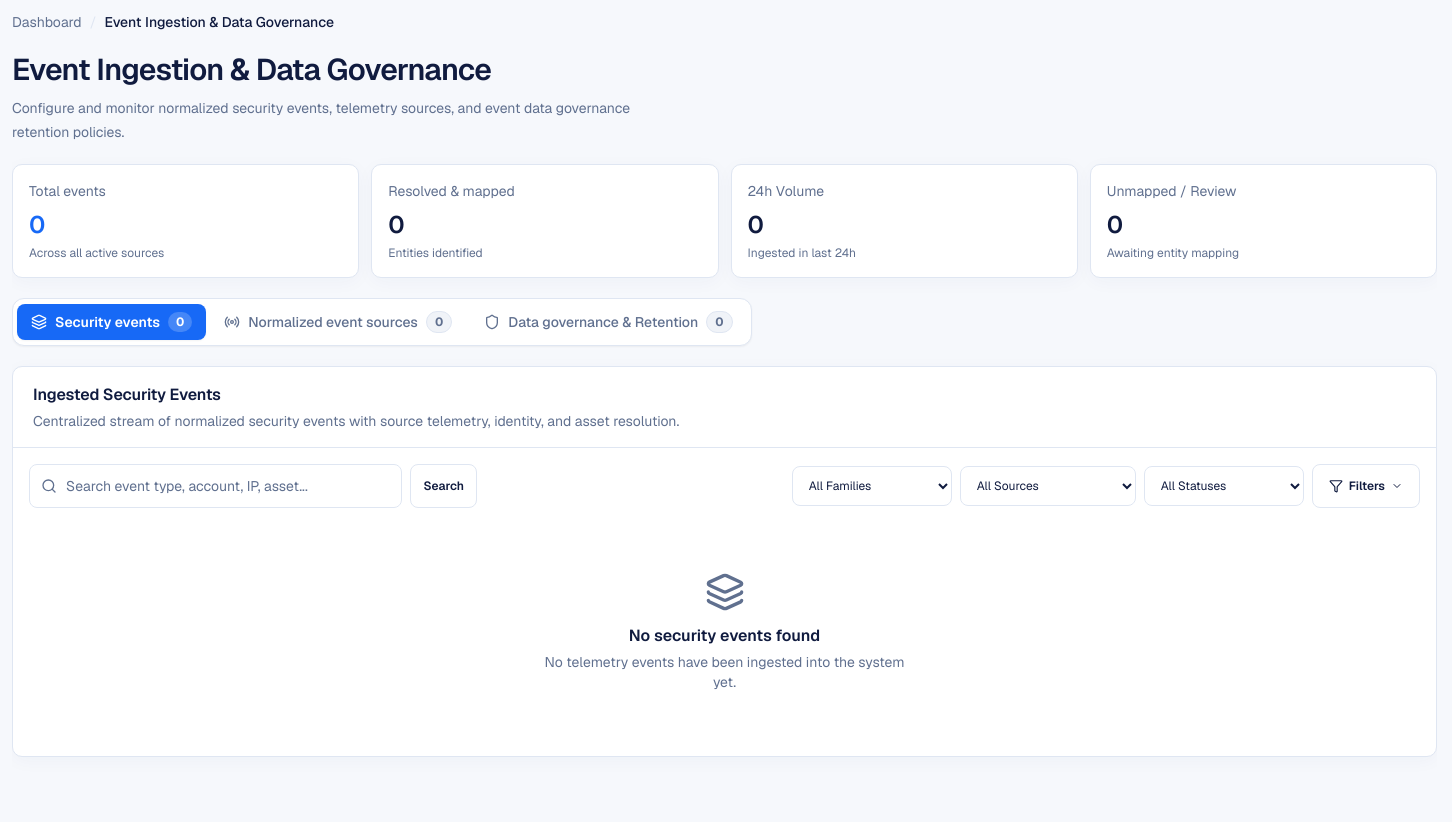
Scenario: LogSourcesManager › renders the 3 active V2 tabs and switches between them
Expected: the button "Security events 0" is shown, [17,304,206,340]
Expected: the button "Data governance & Retention 0" is shown, [470,303,746,341]
// Switch to Normalized event sources
Click the button "Normalized event sources 0" at (338, 322), box [210,303,466,341]
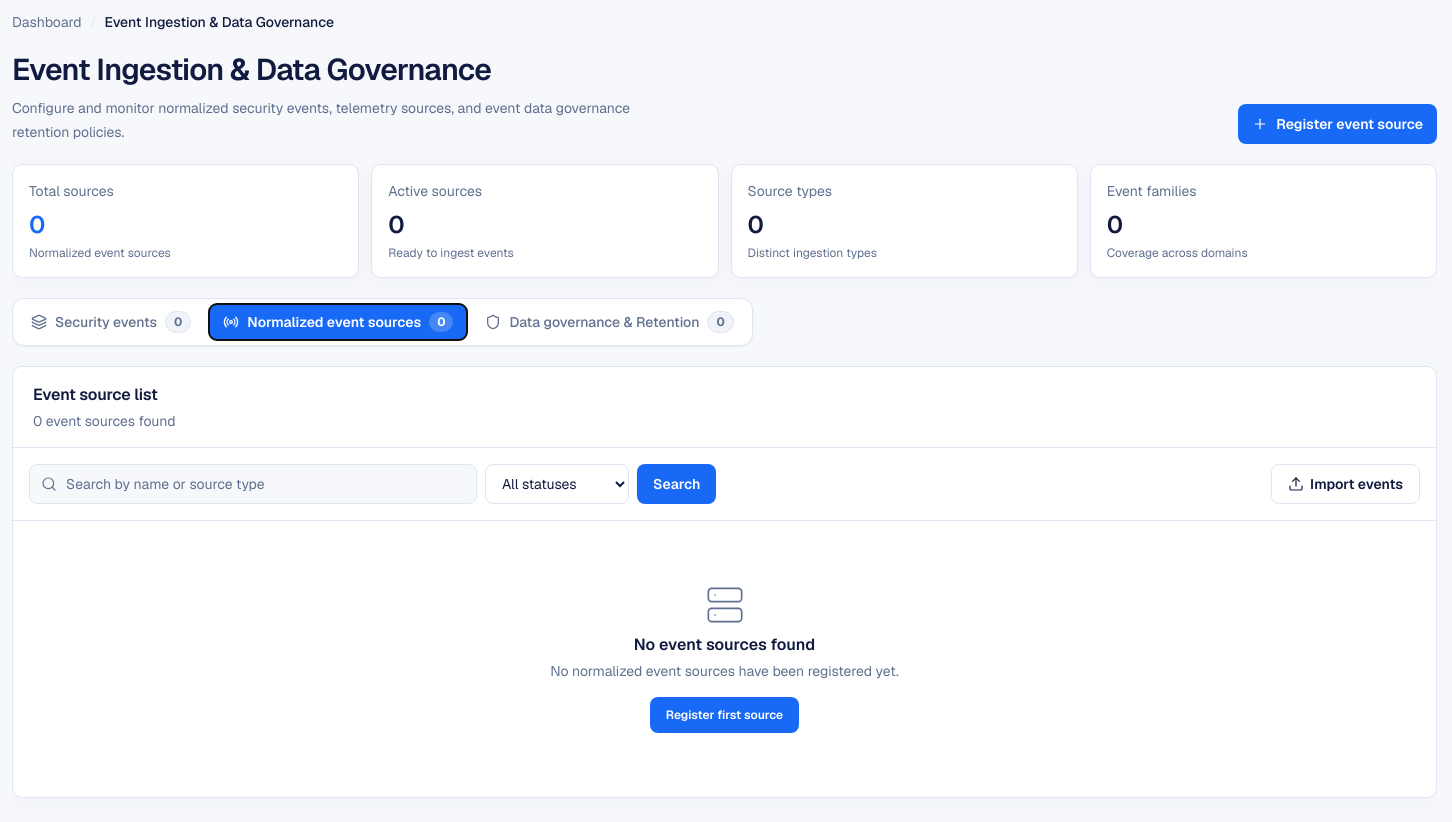
Result: the button "Register event source" is shown at [1238,104,1437,144]
// Switch to Data governance & Retention
Click the button "Data governance & Retention 0" at (610, 322), box [472,303,748,341]
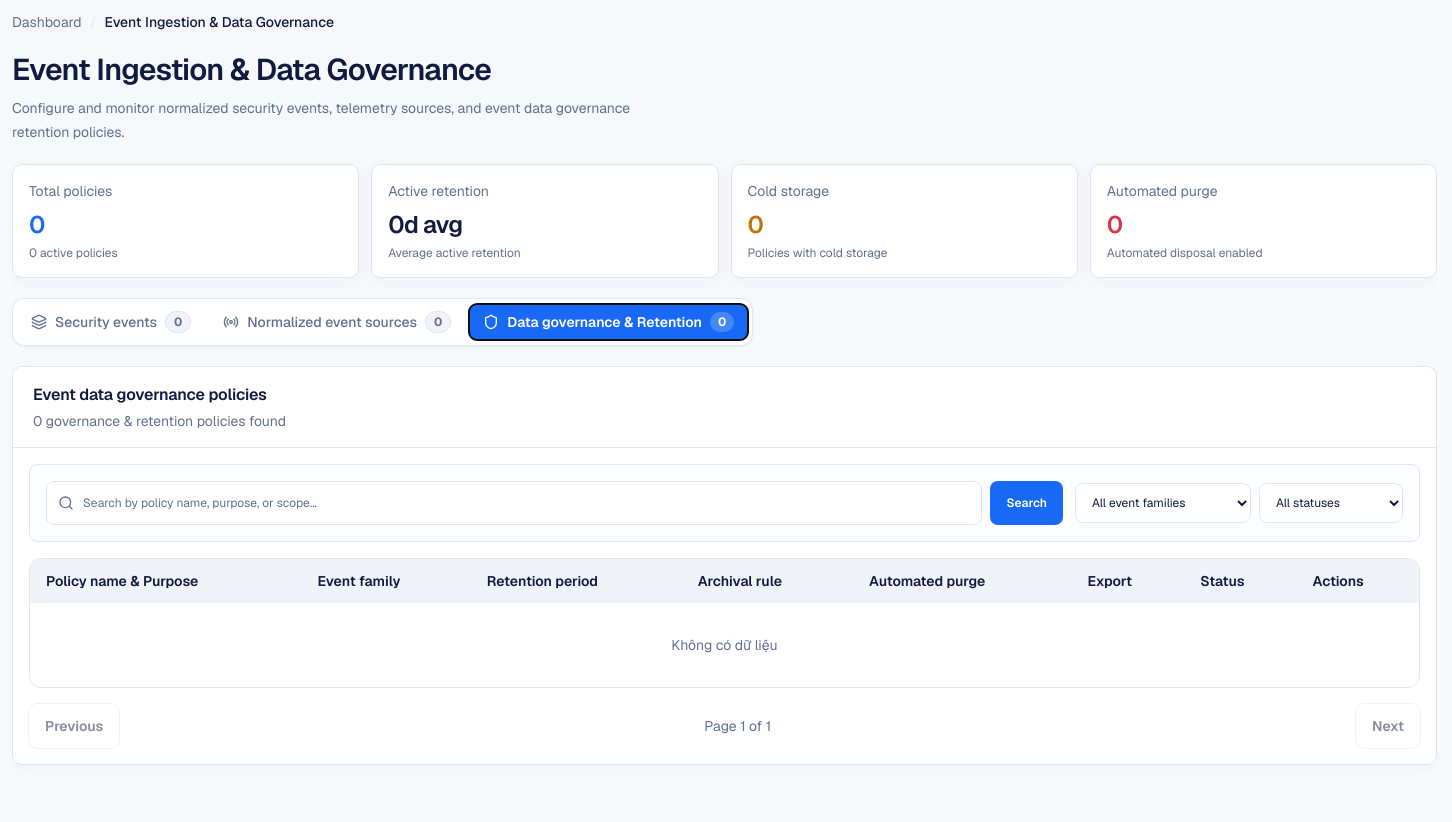
Result: the text "Total policies" is shown at [29,182,112,200]
